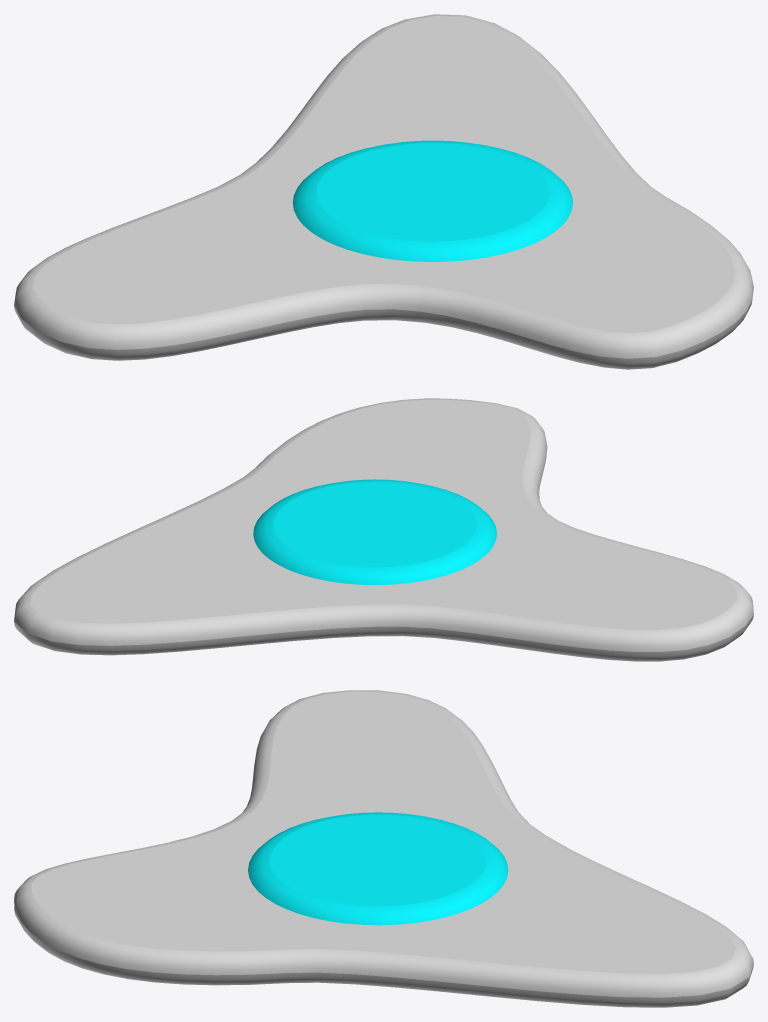
Rendered from eggsplat.fbx.
3 renders of one model, top to bottom at view 1: azimuth 30°, elevation 25°; view 2: azimuth 150°, elevation 25°; view 3: azimuth 270°, elevation 25°, orthographic. The views are drawn at different scales.
Visible parts, largest first — view 1: EggWhite, EggYolk; view 2: EggWhite, EggYolk; view 3: EggWhite, EggYolk.
Boxes of the visible parts, x1,y1,x2,y2 form: EggWhite: (14,14,753,369); EggYolk: (292,140,572,261); EggWhite: (14,398,753,661); EggYolk: (253,479,496,585); EggWhite: (14,690,753,1007); EggYolk: (248,812,508,925).
Size of the model in its own units: 198 by 16 by 208.
